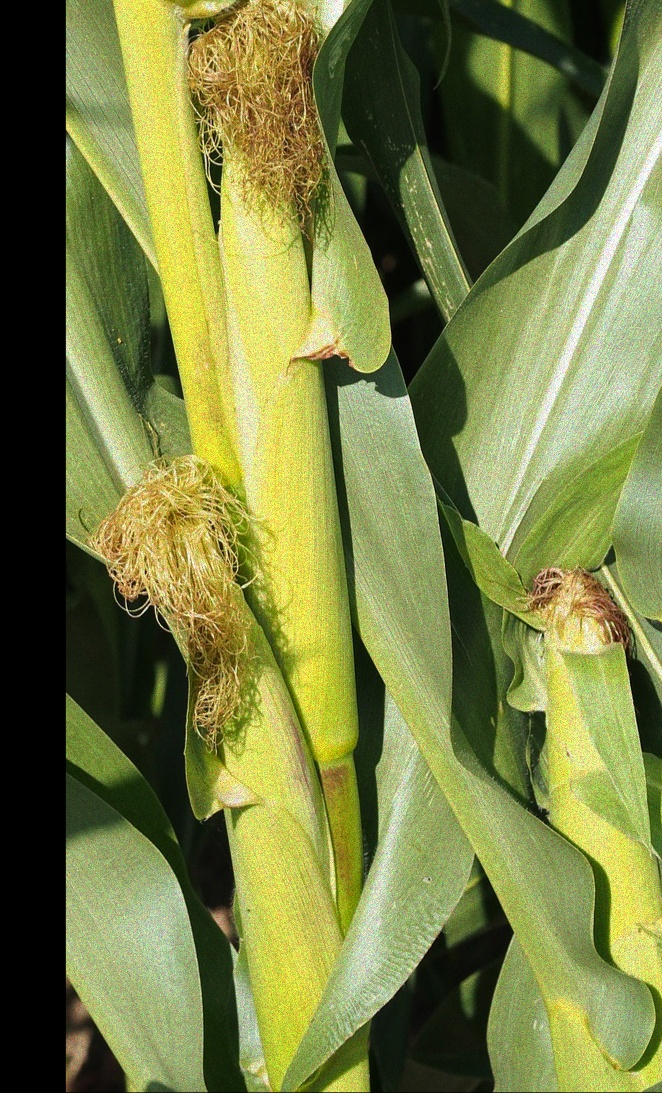corn_plant: (103, 489, 359, 1092), (179, 18, 366, 794)
